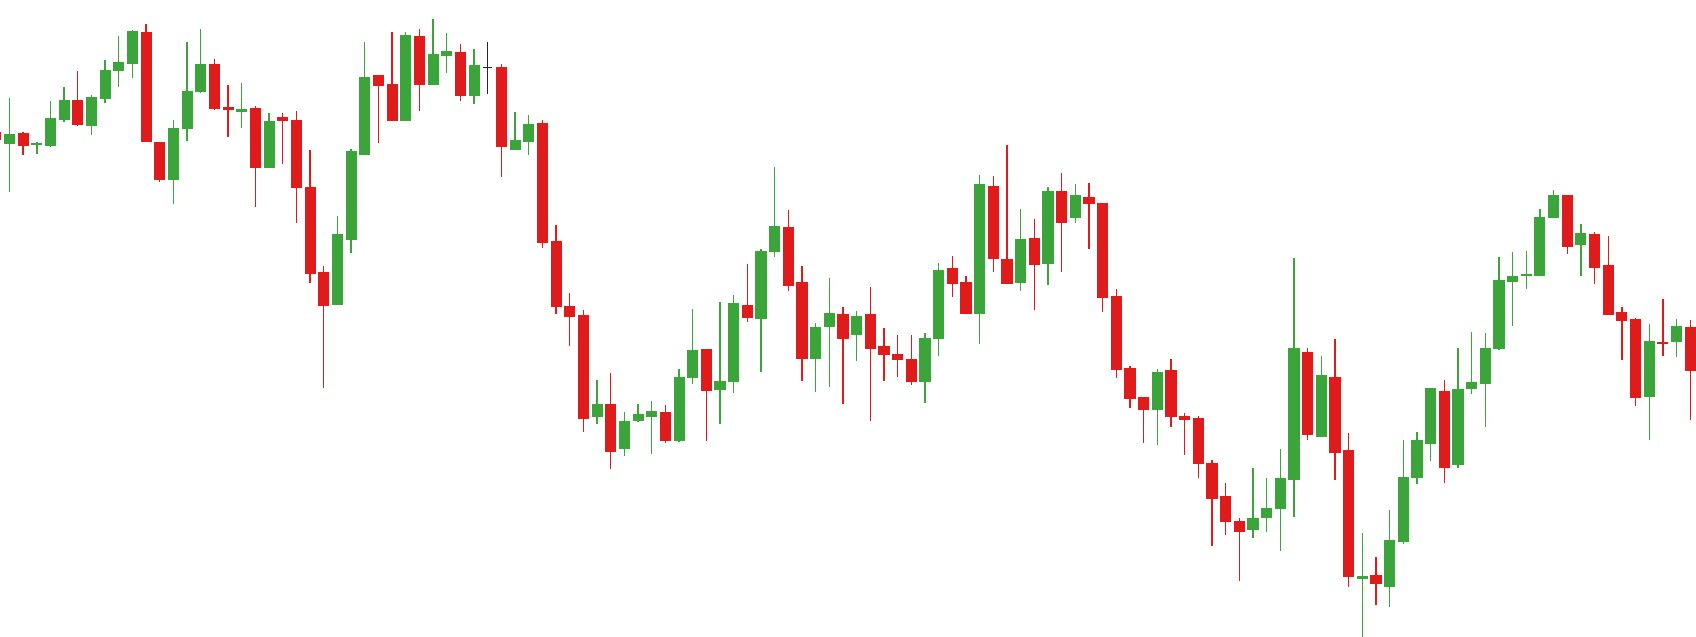buy: (1232, 414, 1397, 637)
